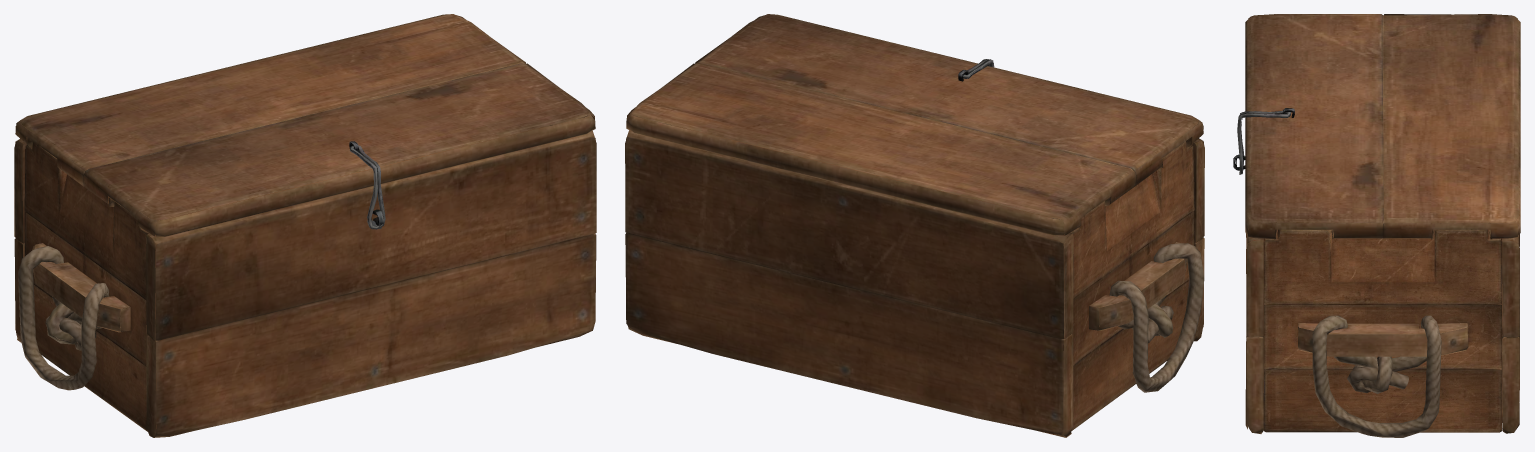
The model's file is wooden_crate_01.glb.
3 views of the same model, side by side, from view 1: azimuth 30°, elevation 25°; view 2: azimuth 150°, elevation 25°; view 3: azimuth 270°, elevation 25° (orthographic). The views are drawn at different scales.
Visible parts, largest first — view 1: wooden_crate_01; view 2: wooden_crate_01; view 3: wooden_crate_01.
Part boxes in pixels (x1,y1,x2,y2): wooden_crate_01: (14,14,596,437); wooden_crate_01: (625,14,1204,437); wooden_crate_01: (1233,14,1520,437).
Size of the model in its own units: 0.8247 by 0.3482 by 0.4088.
Materials: 1 (1 with a texture image).
